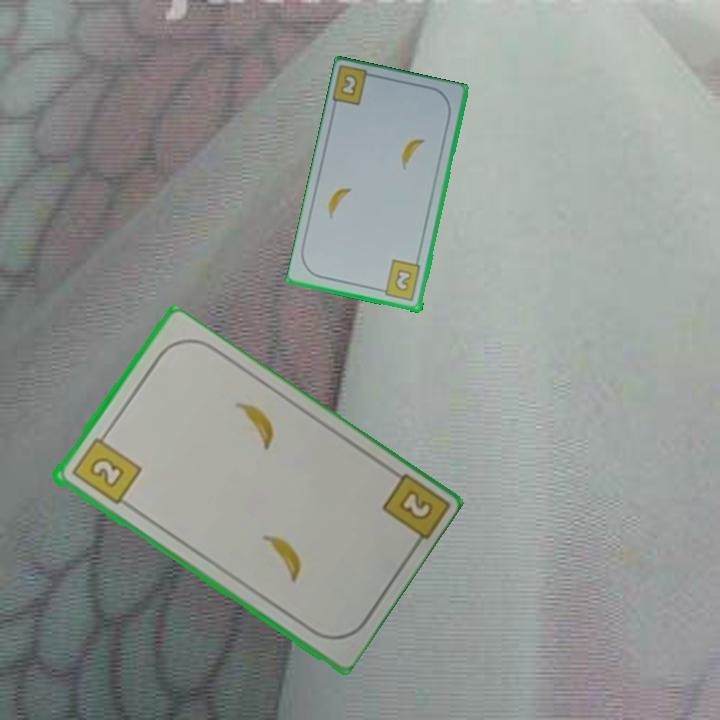2b: (67, 428, 144, 507), (376, 257, 424, 304), (394, 486, 436, 524), (337, 71, 361, 100)
